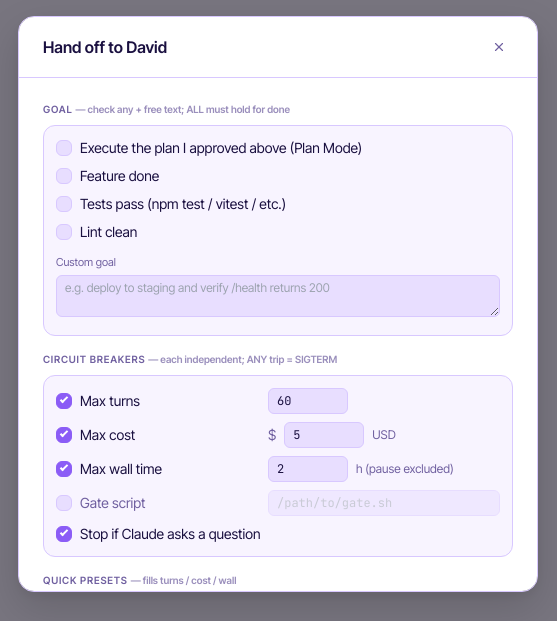
Test: HandoffModal (v2.2.0) › checking a preset that does NOT need specify (Tests pass) enables Go immediately
What coordinates should you click on to do the following:
click the text "Tests pass (npm test / vitest / etc.)"
I would click on:
 (183, 204)
Its box is top-left (80, 195), bottom-right (286, 212).
(page scrolled)
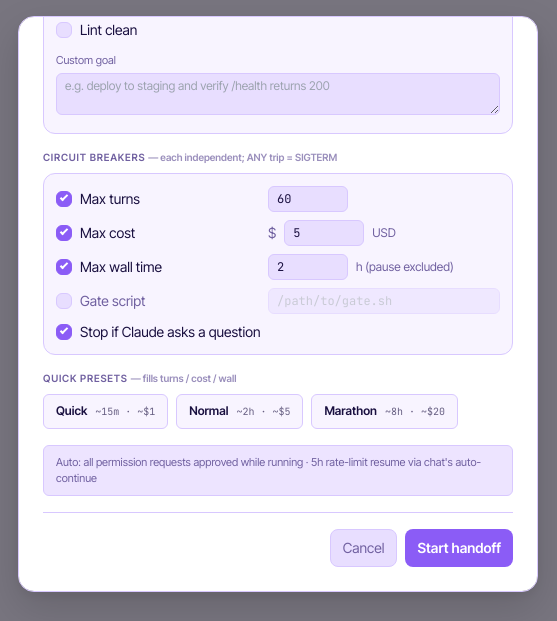
Now the button "Start handoff" is enabled, box top-left (406, 528), bottom-right (513, 566)
